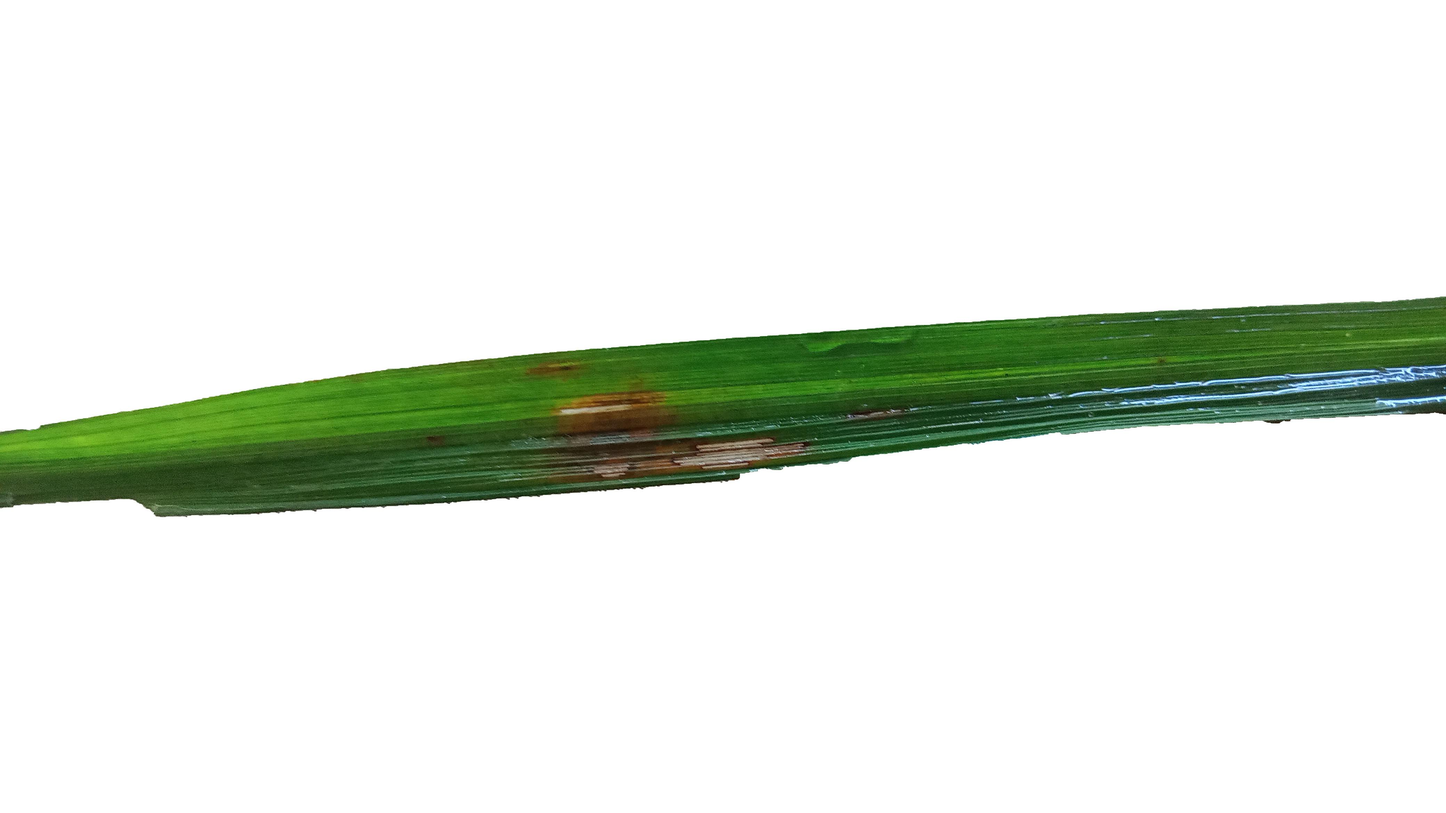Blight: (542, 377, 687, 481), (673, 412, 806, 483)
